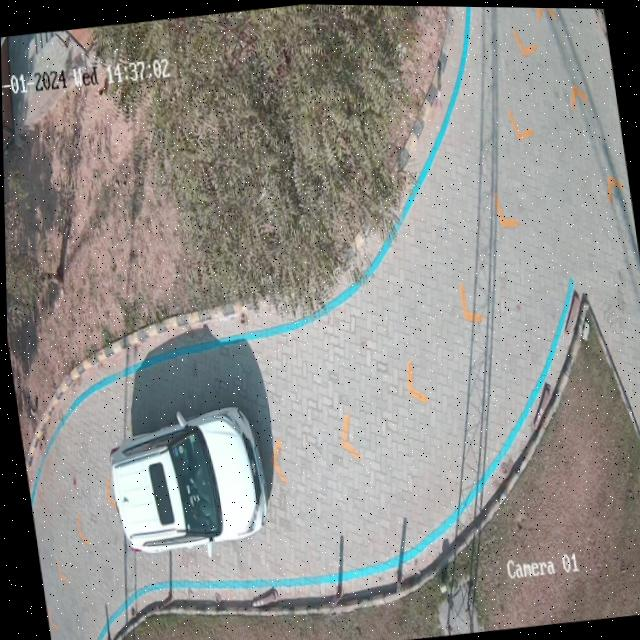car: (108, 406, 265, 551)
